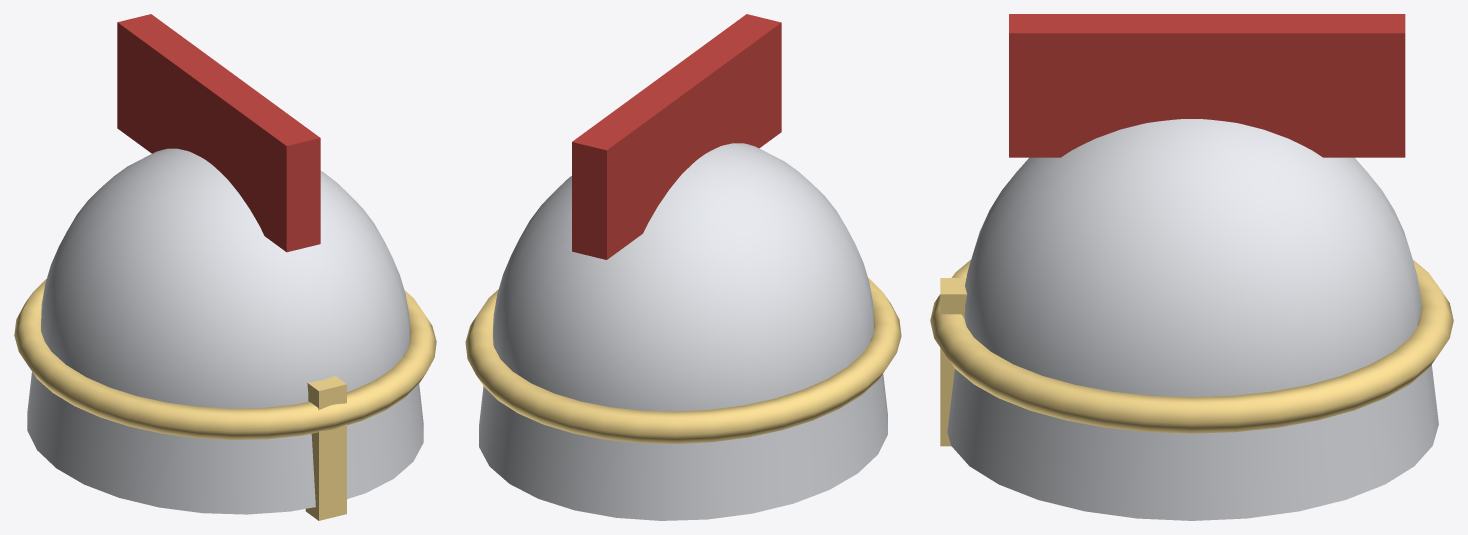
The model's file is elmo.glb.
3 views of the same model, side by side, from view 1: azimuth 30°, elevation 25°; view 2: azimuth 150°, elevation 25°; view 3: azimuth 270°, elevation 25° (orthographic). The views are drawn at different scales.
Visible parts, largest first — view 1: elmo; view 2: elmo; view 3: elmo.
Boxes of the visible parts, box(x1,y1,x2,y2) form: elmo: box(14, 14, 436, 520); elmo: box(465, 14, 901, 520); elmo: box(930, 14, 1453, 520).
Size of the model in its own units: 0.318 by 0.3 by 0.3434.
